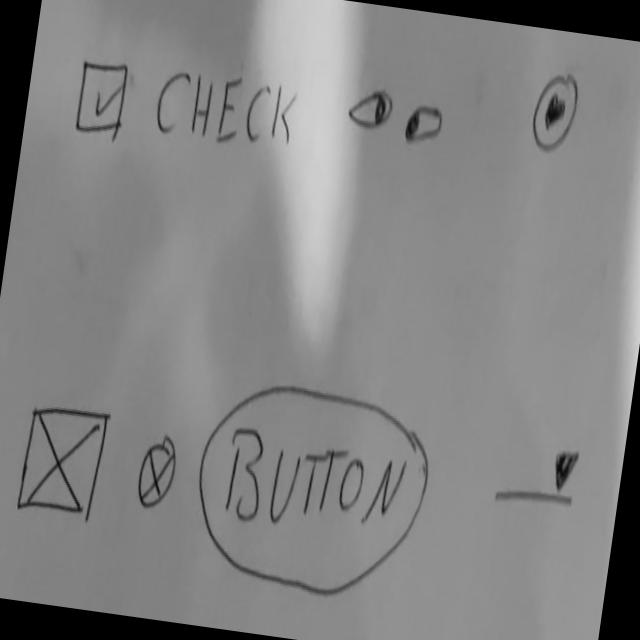button: (181, 368, 440, 610)
checkbox: (72, 49, 302, 170)
icon-button: (525, 66, 583, 160)
image: (12, 393, 114, 528), (130, 430, 182, 520)
select: (491, 434, 584, 515)
toggle: (346, 84, 398, 136), (402, 100, 446, 154)
